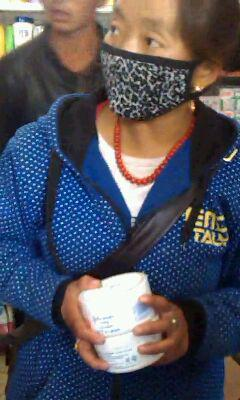OK: (101, 9, 206, 114)
